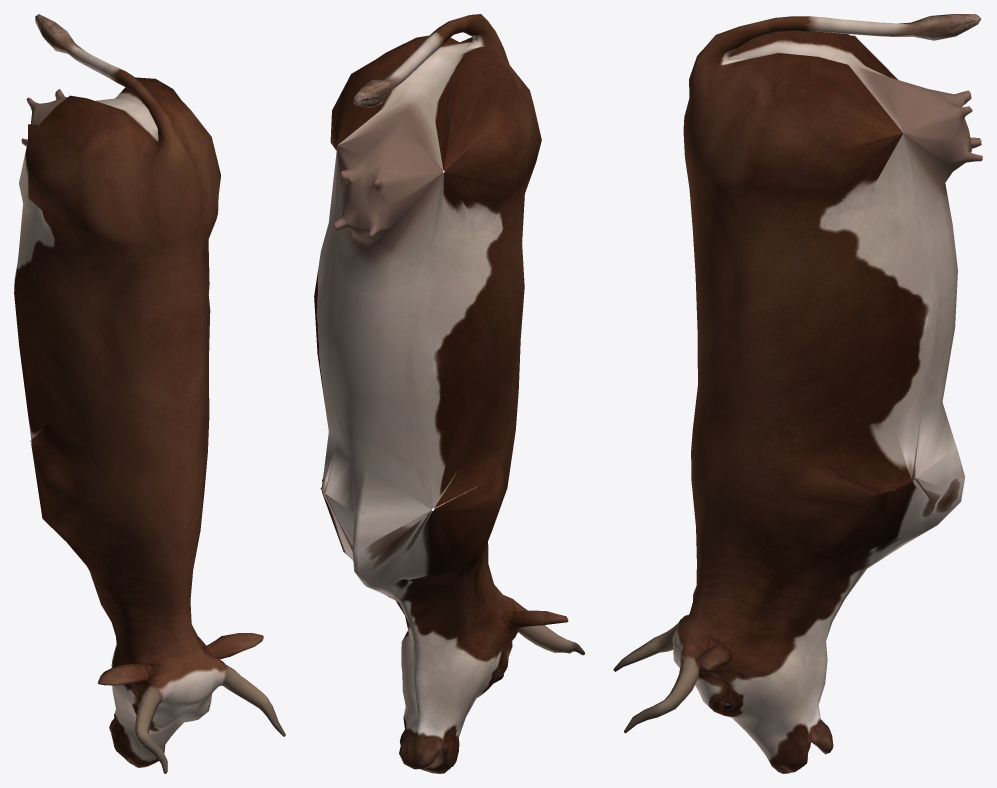
Rendered from CowNoLegs.glb.
The picture shows the model from 3 angles, left to right: view 1: azimuth 30°, elevation 25°; view 2: azimuth 150°, elevation 25°; view 3: azimuth 270°, elevation 25°; orthographic projection. The views are drawn at different scales.
Parts seen in each view (by area): view 1: Cow_Mesh; view 2: Cow_Mesh; view 3: Cow_Mesh.
Part boxes in pixels (x1,y1,x2,y2): Cow_Mesh: [14, 14, 285, 773]; Cow_Mesh: [314, 14, 584, 773]; Cow_Mesh: [613, 14, 982, 773].
Size of the model in its own units: 0.6843 by 2.53 by 1.13.
Materials: 1 (1 with a texture image).
